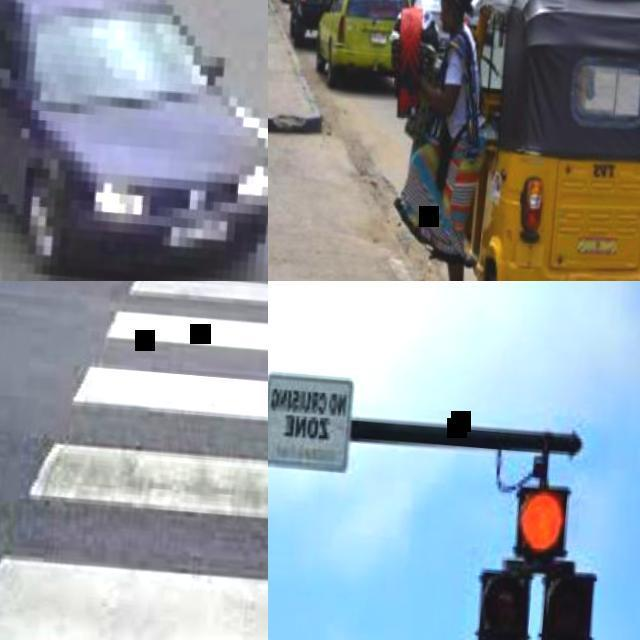car: (0, 0, 271, 271), (392, 0, 639, 273)
